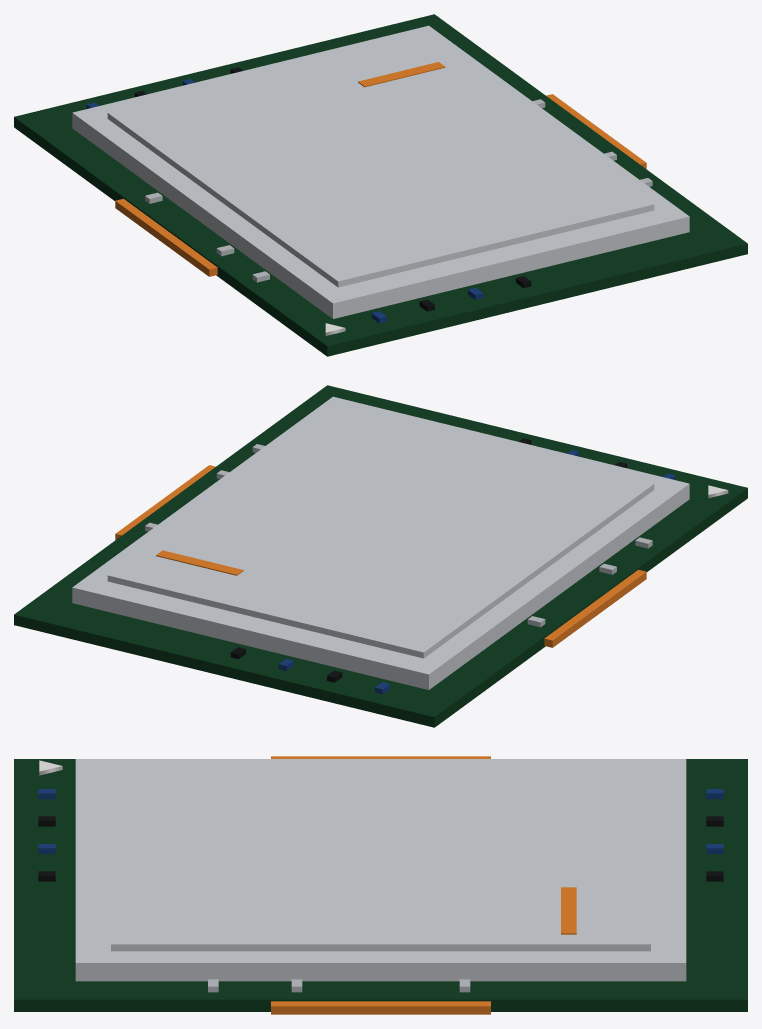
The model's file is hw_cpu_epyc_9354.glb.
3 renders of one model, top to bottom at view 1: azimuth 30°, elevation 25°; view 2: azimuth 150°, elevation 25°; view 3: azimuth 270°, elevation 25°, orthographic. The views are drawn at different scales.
Parts seen in each view (by area): view 1: Body; view 2: Body; view 3: Body.
Part boxes in pixels (left/top/right/bottom): Body: left=14, top=14, right=747, bottom=356; Body: left=14, top=385, right=747, bottom=727; Body: left=14, top=756, right=747, bottom=1014.
Size of the model in its own units: 0.0608 by 0.00467 by 0.0755.
